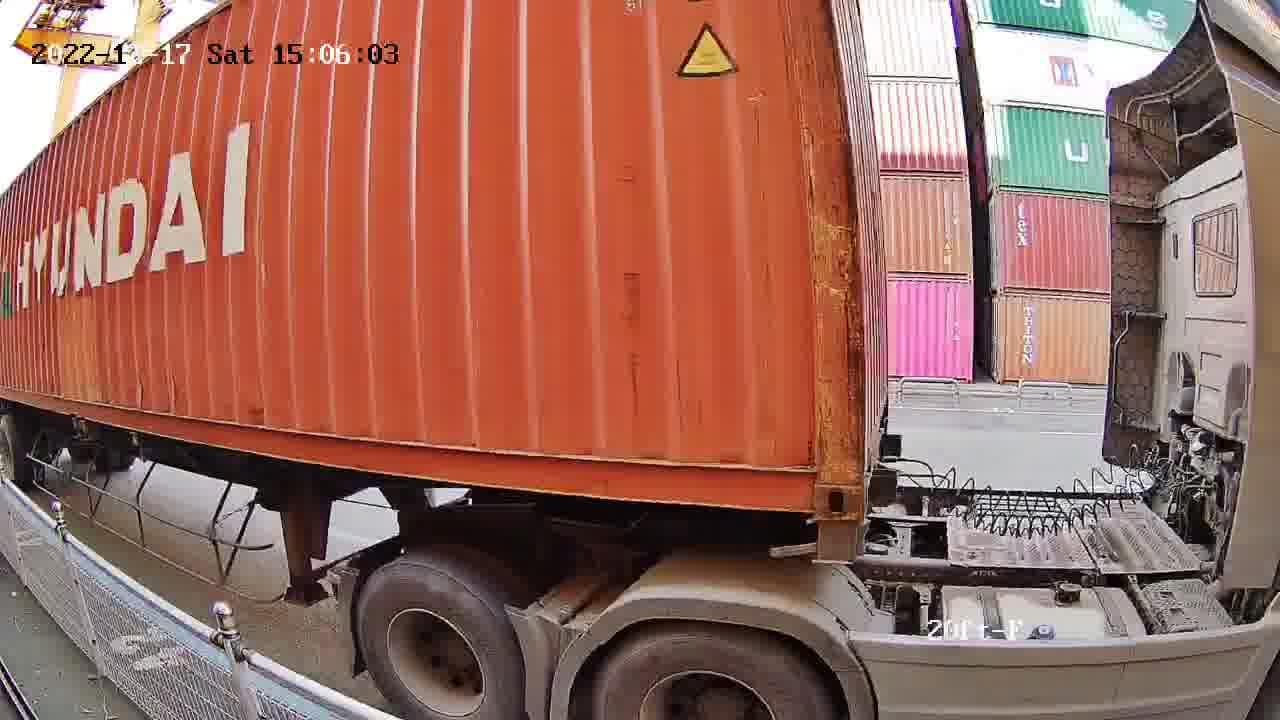Cone: (809, 521, 864, 563)
Hole_R: (773, 432, 864, 521)
Tire: (356, 567, 523, 716), (597, 632, 832, 718)
